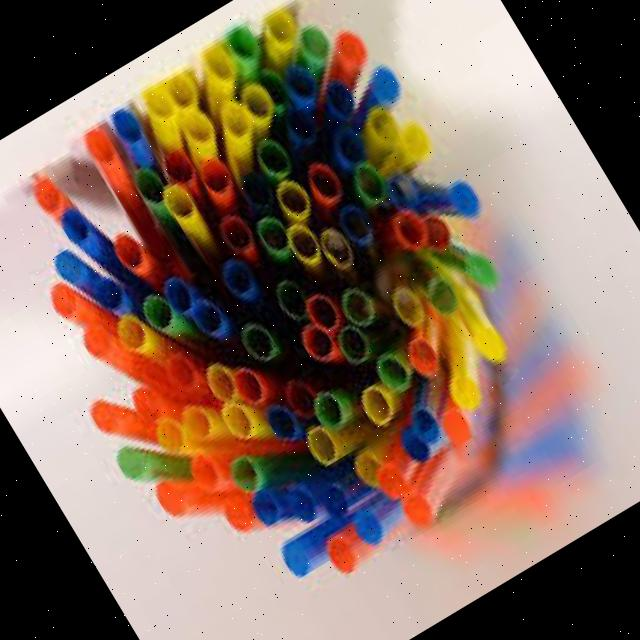plastic: (70, 379, 136, 452)
